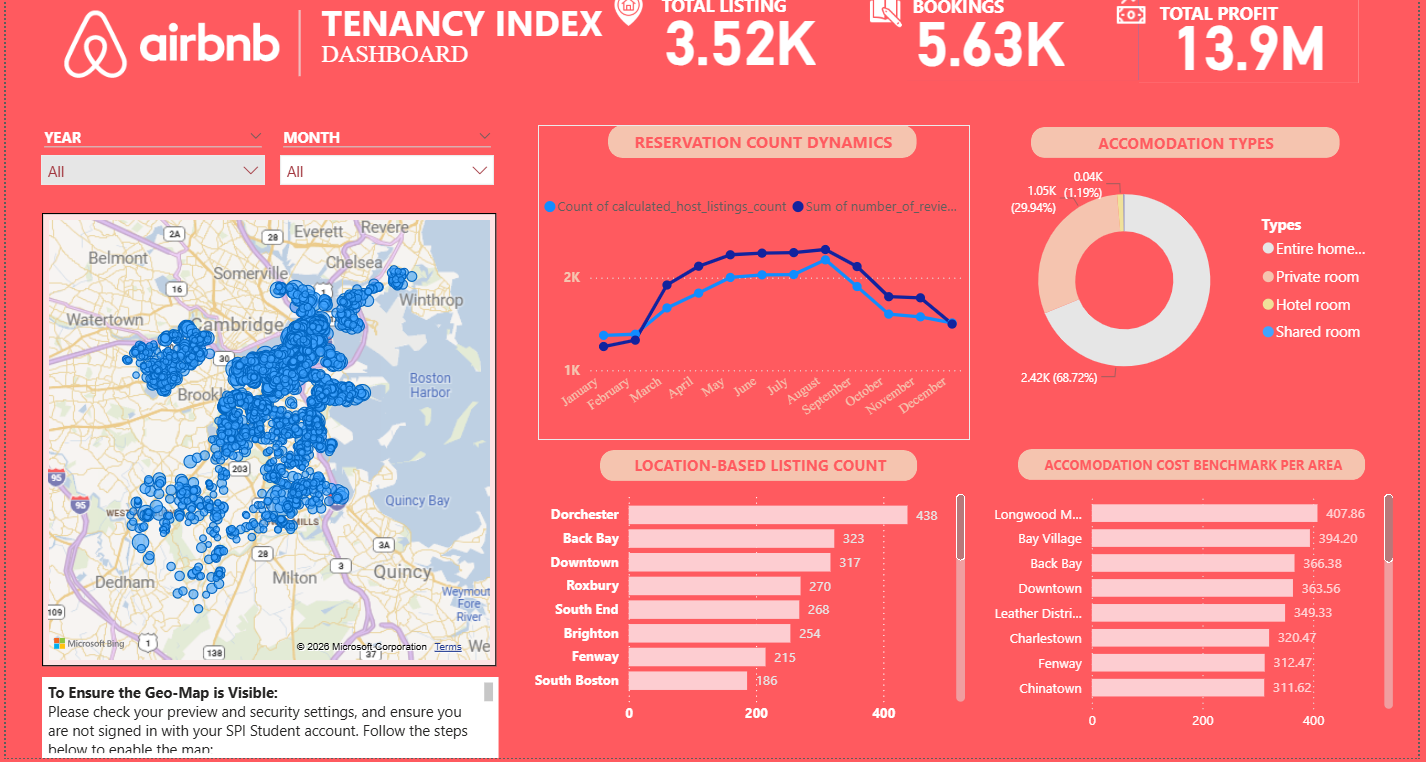

What the dashboard file says about the page in this screenshot:
{"tool":"powerbi","page":{"name":"Dashboard","canvas":[1280,720],"ordinal":0},"visuals":[{"type":"cardVisual","title":"Total Listing","fields":{"Data":["CountNonNull(listings_cleaned.calculated_host_listings_count)"]},"box":[580.3,20.8,213.1,81.6],"z":0,"group":"g7"},{"type":"cardVisual","title":"Bookings","fields":{"Data":["Sum(listings_cleaned.Customer Reviews)"]},"box":[816.7,26.9,210,78],"z":0,"group":"g6"},{"type":"cardVisual","title":"Total Income","fields":{"Data":["Sum(listings_cleaned.TotalRevenue)"]},"box":[1027,31,199,77],"z":0,"group":"g9"},{"type":"textbox","title":"Dashboard","box":[281,65,300,50],"z":0,"group":"g8"},{"type":"shape","box":[545.6,145.7,280,30],"z":0,"group":"g1"},{"type":"shape","box":[930.3,147.5,280,28],"z":0,"group":"g3"},{"type":"donutChart","title":"Accommodation Category","fields":{"Category":["listings_cleaned.room_type"],"Y":["CountNonNull(listings_cleaned.calculated_host_listings_count)"]},"box":[890,162,357,244],"z":0,"group":"g5"},{"type":"lineChart","title":"Reservation Count Dynamics","fields":{"Category":["reviews.date.Variation.Date Hierarchy.Month"],"Y2":["Sum(listings_cleaned.number_of_reviews)"],"Y":["CountNonNull(listings_cleaned.calculated_host_listings_count)"]},"box":[482.3,200.2,392,231],"z":0,"group":"g10"},{"type":"shape","box":[917.9,439.7,315,28.3],"z":0,"group":"g4"},{"type":"shape","box":[538.9,441,287.8,28.3],"z":0,"group":"g2"},{"type":"clusteredBarChart","title":"Location-Based Listing Count","fields":{"Category":["listings_cleaned.neighbourhood"],"Y":["CountNonNull(listings_cleaned.calculated_host_listings_count)"]},"box":[460.7,468.3,414,230],"z":0},{"type":"textbox","title":"Label - TL","box":[589.5,26.1,163,21],"z":1000,"group":"g7"},{"type":"textbox","title":"Label - Bookings","box":[816.7,26.9,224.2,30.6],"z":1000,"group":"g6"},{"type":"textbox","title":"Boston Index","box":[281,30,274,48],"z":1000,"group":"g8"},{"type":"textbox","title":"Label - Profit","box":[1041,33,154,21],"z":1000,"group":"g9"},{"type":"group","id":"g1","title":"SH - RCD","box":[545.6,145.7,298.2,43],"z":1000,"group":"g10"},{"type":"textbox","title":"Label - RCD","box":[564.9,149.9,279,39],"z":1000,"group":"g1"},{"type":"textbox","title":"Label - RCD","box":[937.2,152,266.9,38.5],"z":1000,"group":"g3"},{"type":"group","id":"g2","title":"SH - Location-Based","box":[538.9,441,308.8,43.4],"z":1000},{"type":"textbox","title":"Label - RCD","box":[565,445,282.7,39.4],"z":1000,"group":"g2"},{"type":"textbox","title":"Label - RCD","box":[933.3,445.2,287.5,39.4],"z":1000,"group":"g4"},{"type":"group","id":"g3","title":"SH - Accomodation","box":[930.3,147.5,280,43],"z":1500,"group":"g5"},{"type":"image","box":[999,18,42,44],"z":2000,"group":"g9"},{"type":"image","box":[539.5,18.1,50,44],"z":2000,"group":"g7"},{"type":"image","box":[771.7,20.9,50,43],"z":2000,"group":"g6"},{"type":"shape","title":"Line Logo","box":[260,42,12,60],"z":2000,"group":"g8"},{"type":"map","fields":{"Y":["listings_cleaned.latitude"],"X":["listings_cleaned.longitude"],"Size":["Avg(listings_cleaned.price)"]},"box":[32.3,225.9,411.5,410.5],"z":2000},{"type":"image","title":"Logo","box":[30,37,240,71],"z":3000,"group":"g8"},{"type":"clusteredBarChart","title":"Accommodation Cost Benchmark per Area","fields":{"Category":["listings_cleaned.neighbourhood"],"Y":["Avg(listings_cleaned.price)"]},"box":[879.4,468.4,383.3,236.4],"z":3000},{"type":"group","id":"g4","title":"SH - Location-Based","box":[917.9,439.7,315.2,44.8],"z":4000},{"type":"slicer","title":"Slicer 2","fields":{"Values":["reviews.Year"]},"box":[21.8,143.6,222.7,89.1],"z":5000},{"type":"slicer","fields":{"Values":["reviews.Month"]},"box":[238.2,143.6,213.6,69.1],"z":6000},{"type":"group","id":"g5","title":"Accomodation","box":[890,147.5,357,258.5],"z":7000},{"type":"group","id":"g6","title":"Bookings","box":[771.7,20.9,269.3,84.3],"z":8000},{"type":"group","id":"g7","title":"Total Listing","box":[539.5,18.1,253.9,84.3],"z":9000},{"type":"group","id":"g8","title":"Header","box":[30,30,551,85],"z":10000},{"type":"group","id":"g9","title":"Profit","box":[999,18,227,90],"z":11000},{"type":"group","id":"g10","title":"RCD","box":[482.3,145.7,392,285.5],"z":12000},{"type":"textbox","box":[32.3,646.6,413.6,73.6],"z":13000}]}

Visuals, with their boxes on the page's 1280x720 design canvas (x1, y1, x2, y2). These are canvas units, not pixel positions in the 1426x762 screenshot, which may show the page scaled, cropped or inside an application window:
"Total Listing" cardVisual: <region>580, 21, 793, 102</region>
"Bookings" cardVisual: <region>817, 27, 1027, 105</region>
"Total Income" cardVisual: <region>1027, 31, 1226, 108</region>
"Dashboard" textbox: <region>281, 65, 581, 115</region>
shape: <region>546, 146, 826, 176</region>
shape: <region>930, 148, 1210, 176</region>
"Accommodation Category" donutChart: <region>890, 162, 1247, 406</region>
"Reservation Count Dynamics" lineChart: <region>482, 200, 874, 431</region>
shape: <region>918, 440, 1233, 468</region>
shape: <region>539, 441, 827, 469</region>
"Location-Based Listing Count" clusteredBarChart: <region>461, 468, 875, 698</region>
"Label - TL" textbox: <region>590, 26, 752, 47</region>
"Label - Bookings" textbox: <region>817, 27, 1041, 58</region>
"Boston Index" textbox: <region>281, 30, 555, 78</region>
"Label - Profit" textbox: <region>1041, 33, 1195, 54</region>
"SH - RCD" group: <region>546, 146, 844, 189</region>
"Label - RCD" textbox: <region>565, 150, 844, 189</region>
"Label - RCD" textbox: <region>937, 152, 1204, 190</region>
"SH - Location-Based" group: <region>539, 441, 848, 484</region>
"Label - RCD" textbox: <region>565, 445, 848, 484</region>
"Label - RCD" textbox: <region>933, 445, 1221, 485</region>
"SH - Accomodation" group: <region>930, 148, 1210, 190</region>
image: <region>999, 18, 1041, 62</region>
image: <region>540, 18, 590, 62</region>
image: <region>772, 21, 822, 64</region>
"Line Logo" shape: <region>260, 42, 272, 102</region>
map - listings_cleaned.latitude x listings_cleaned.longitude: <region>32, 226, 444, 636</region>
"Logo" image: <region>30, 37, 270, 108</region>
"Accommodation Cost Benchmark per Area" clusteredBarChart: <region>879, 468, 1263, 705</region>
"SH - Location-Based" group: <region>918, 440, 1233, 484</region>
"Slicer 2" slicer: <region>22, 144, 244, 233</region>
slicer - reviews.Month: <region>238, 144, 452, 213</region>
"Accomodation" group: <region>890, 148, 1247, 406</region>
"Bookings" group: <region>772, 21, 1041, 105</region>
"Total Listing" group: <region>540, 18, 793, 102</region>
"Header" group: <region>30, 30, 581, 115</region>
"Profit" group: <region>999, 18, 1226, 108</region>
"RCD" group: <region>482, 146, 874, 431</region>
textbox: <region>32, 647, 446, 720</region>
